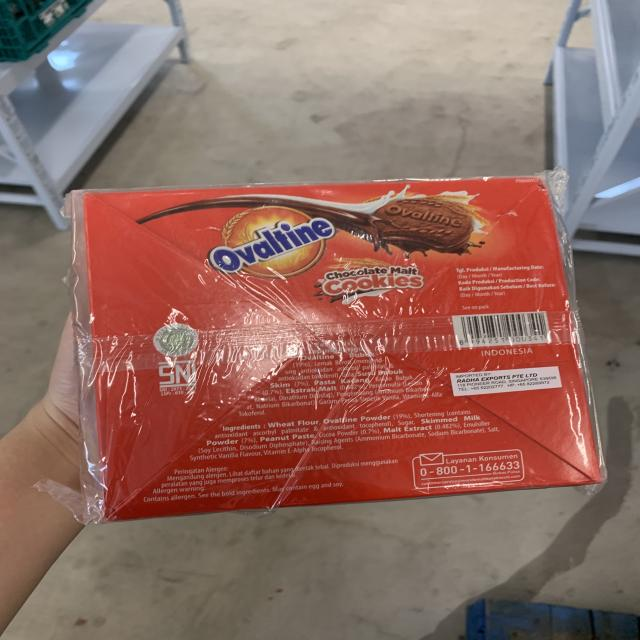object_name: (78, 187, 597, 491)
